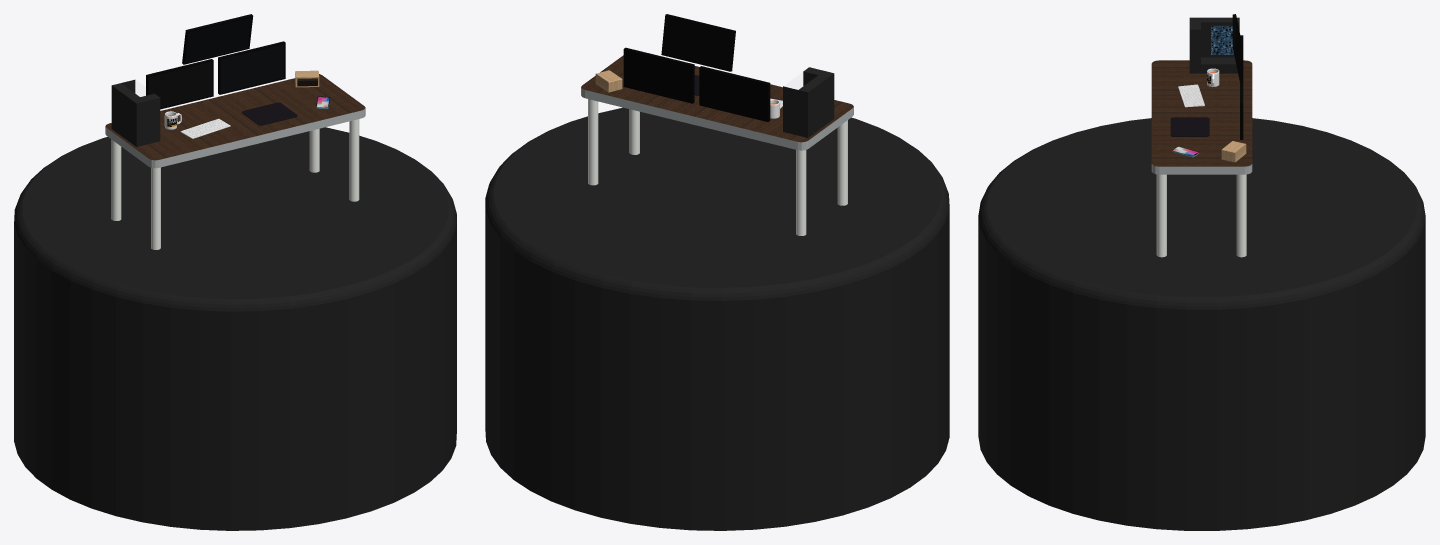
3 views of the same model, side by side, from view 1: azimuth 30°, elevation 25°; view 2: azimuth 150°, elevation 25°; view 3: azimuth 270°, elevation 25° (orthographic). The views are drawn at different scales.
Visible parts, largest first — view 1: Cylinder, plateau, Computer, ECRAN2 - DROITE, ECRAN1 - GAUCHE, ECRAN3 - TOP, pied2, pied1, pied4, tapis; view 2: Cylinder, plateau, ECRAN3 - TOP, ECRAN1 - GAUCHE, ECRAN2 - DROITE, Computer, pied1, pied3, pied4; view 3: Cylinder, plateau, Computer, pied3, pied2, tapis, ECRAN3 - TOP.
Part boxes in pixels (box(x1,y1,x2,y2)): Cylinder: box(14, 127, 456, 530); plateau: box(105, 74, 365, 168); Computer: box(111, 79, 160, 146); ECRAN2 - DROITE: box(218, 41, 285, 94); ECRAN1 - GAUCHE: box(146, 59, 213, 109); ECRAN3 - TOP: box(182, 14, 253, 64); pied2: box(349, 119, 359, 201); pied1: box(111, 139, 121, 220); pied4: box(151, 167, 160, 249); tapis: box(241, 102, 297, 125); Cylinder: box(485, 107, 949, 530); plateau: box(581, 55, 853, 150); ECRAN3 - TOP: box(661, 14, 735, 71); ECRAN1 - GAUCHE: box(699, 66, 770, 122); ECRAN2 - DROITE: box(623, 47, 694, 103); Computer: box(783, 67, 834, 137); pied1: box(796, 150, 806, 235); pied3: box(588, 99, 598, 185); pied4: box(837, 120, 847, 205); Cylinder: box(978, 118, 1425, 530); plateau: box(1151, 60, 1252, 174); Computer: box(1189, 17, 1239, 73); pied3: box(1236, 174, 1246, 257); pied2: box(1156, 174, 1166, 257); tapis: box(1170, 117, 1209, 136); ECRAN3 - TOP: box(1232, 14, 1243, 82).
Size of the model in its own units: 17.75 by 17.85 by 17.79.
28 materials, 6 textured.
